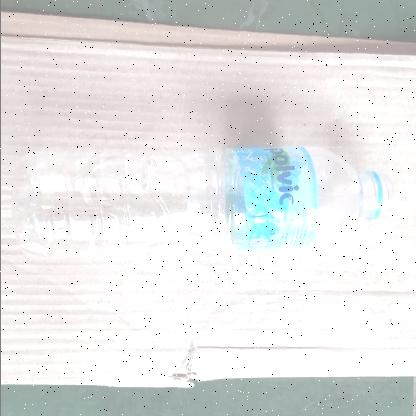Plastic Bottle: (6, 141, 394, 255)
